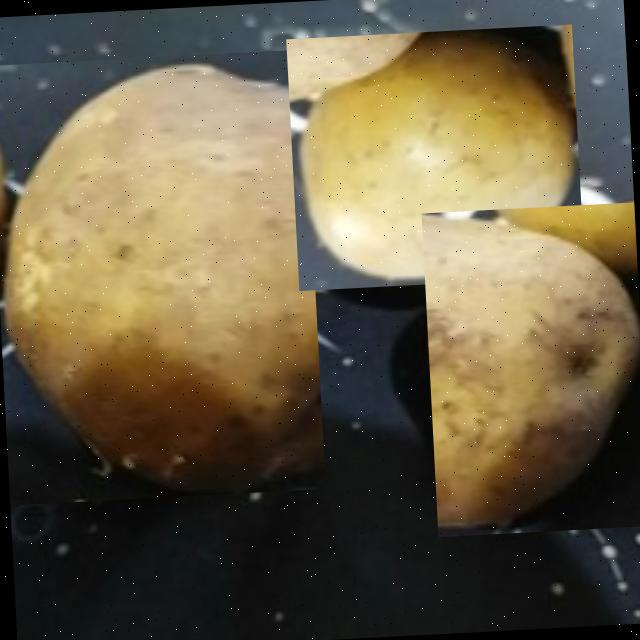Damaged potato: (0, 48, 325, 505), (420, 201, 640, 536)
Potato: (284, 23, 584, 290)
